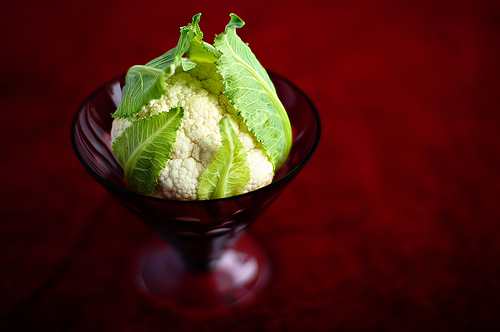cauliflower: (108, 10, 294, 203)
